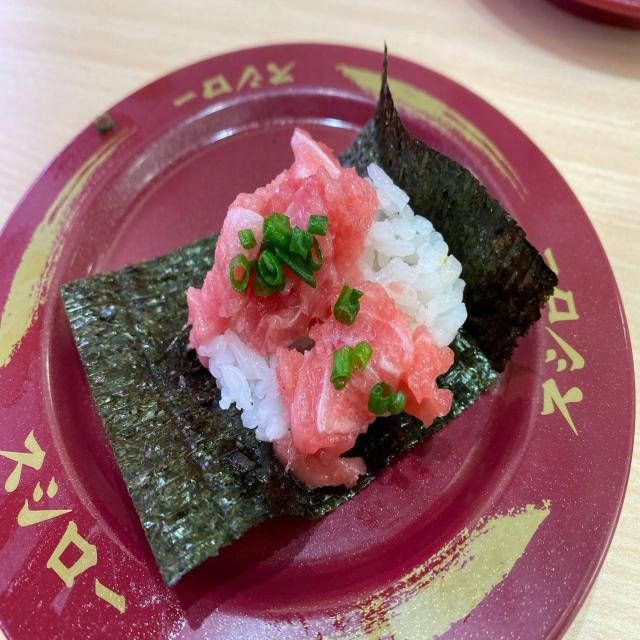janred: (12, 114, 638, 640), (514, 0, 640, 50)
